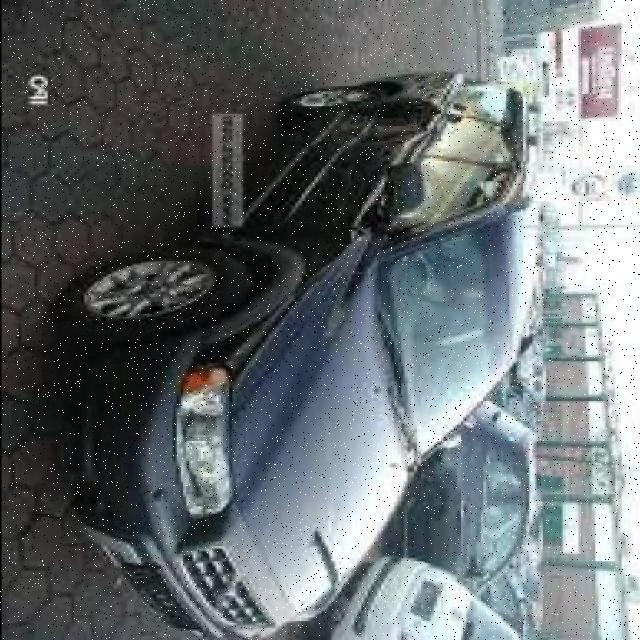damage: (317, 92, 442, 152)
